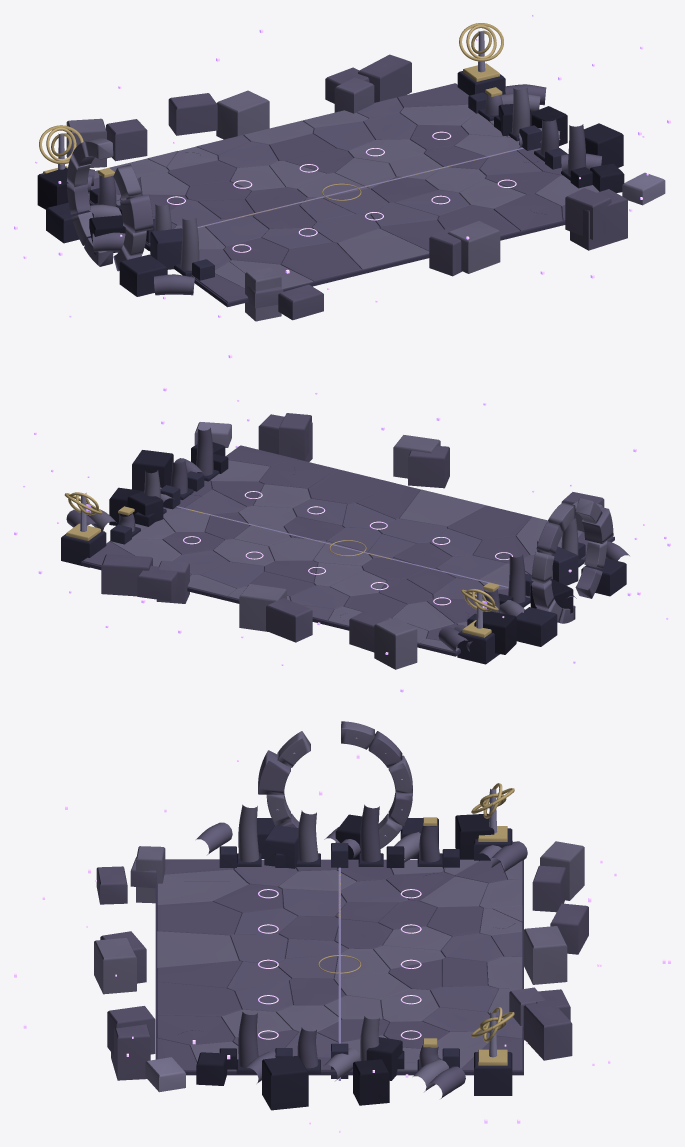
3 renders of one model, top to bottom at view 1: azimuth 30°, elevation 25°; view 2: azimuth 150°, elevation 25°; view 3: azimuth 270°, elevation 25°, orthographic. The views are drawn at different scales.
Visible parts, largest first — view 1: courtyard--stone-pale, boundary-masonry--stone-pale, boundary-masonry--stone-dark, star-portal--stone-pale, shattered-plinths--stone-pale, star-portal--stone-dark, orbital-instruments--trim-brass, orbital-instruments--stone-dark, courtyard--emissive, courtyard--stone-dark; view 2: courtyard--stone-pale, boundary-masonry--stone-pale, boundary-masonry--stone-dark, star-portal--stone-pale, shattered-plinths--stone-pale, star-portal--stone-dark, orbital-instruments--stone-dark, orbital-instruments--trim-brass, courtyard--emissive, courtyard--stone-dark; view 3: courtyard--stone-pale, boundary-masonry--stone-pale, boundary-masonry--stone-dark, shattered-plinths--stone-pale, star-portal--stone-pale, orbital-instruments--trim-brass, orbital-instruments--stone-dark, shattered-plinths--stone-dark, star-portal--stone-dark, courtyard--emissive.
Part boxes in pixels (x1=…): courtyard--stone-pale: x1=88, y1=83, x2=599, y2=307; boundary-masonry--stone-pale: x1=37, y1=54, x2=627, y2=321; boundary-masonry--stone-dark: x1=89, y1=92, x2=665, y2=280; star-portal--stone-pale: x1=67, y1=138, x2=153, y2=271; shattered-plinths--stone-pale: x1=97, y1=87, x2=586, y2=270; star-portal--stone-dark: x1=46, y1=202, x2=167, y2=296; orbital-instruments--trim-brass: x1=39, y1=23, x2=503, y2=174; orbital-instruments--stone-dark: x1=37, y1=71, x2=505, y2=176; courtyard--emissive: x1=167, y1=131, x2=516, y2=252; courtyard--stone-dark: x1=116, y1=139, x2=560, y2=227; courtyard--stone-pale: x1=81, y1=445, x2=614, y2=656; boundary-masonry--stone-pale: x1=66, y1=413, x2=629, y2=669; boundary-masonry--stone-dark: x1=110, y1=422, x2=585, y2=625; star-portal--stone-pale: x1=531, y1=498, x2=613, y2=623; shattered-plinths--stone-pale: x1=118, y1=427, x2=578, y2=613; star-portal--stone-dark: x1=516, y1=558, x2=626, y2=646; orbital-instruments--stone-dark: x1=61, y1=530, x2=499, y2=664; orbital-instruments--trim-brass: x1=64, y1=492, x2=498, y2=637; courtyard--emissive: x1=183, y1=491, x2=512, y2=605; courtyard--stone-dark: x1=176, y1=467, x2=508, y2=617; courtyard--stone-pale: x1=155, y1=859, x2=523, y2=1075; boundary-masonry--stone-pale: x1=94, y1=813, x2=588, y2=1105; boundary-masonry--stone-dark: x1=145, y1=825, x2=459, y2=1110; shattered-plinths--stone-pale: x1=238, y1=804, x2=440, y2=1068; star-portal--stone-pale: x1=258, y1=721, x2=412, y2=859; orbital-instruments--trim-brass: x1=471, y1=783, x2=514, y2=1065; orbital-instruments--stone-dark: x1=474, y1=828, x2=512, y2=1095; shattered-plinths--stone-dark: x1=236, y1=853, x2=442, y2=1073; star-portal--stone-dark: x1=257, y1=818, x2=438, y2=858; courtyard--emissive: x1=258, y1=889, x2=421, y2=1039.
Size of the model in its own units: 22.99 by 4.54 by 18.86.
